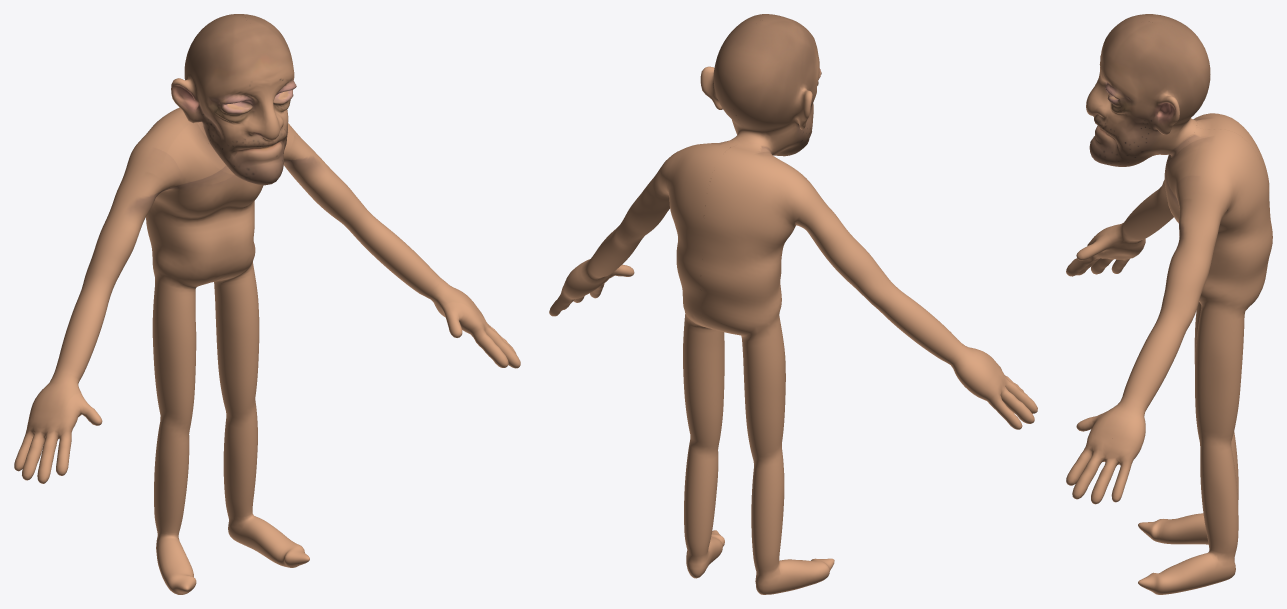
The model's file is Man.glb.
3 renders of one model, left to right at view 1: azimuth 30°, elevation 25°; view 2: azimuth 150°, elevation 25°; view 3: azimuth 270°, elevation 25°, orthographic. The views are drawn at different scales.
Parts seen in each view (by area): view 1: Body1.001; view 2: Body1.001; view 3: Body1.001.
Part boxes in pixels (x1,y1,x2,y2): Body1.001: (14,14,520,594); Body1.001: (549,14,1037,594); Body1.001: (1066,14,1272,594).
Size of the model in its own units: 1.59 by 1.74 by 0.5933.
1 material, 1 textured.
